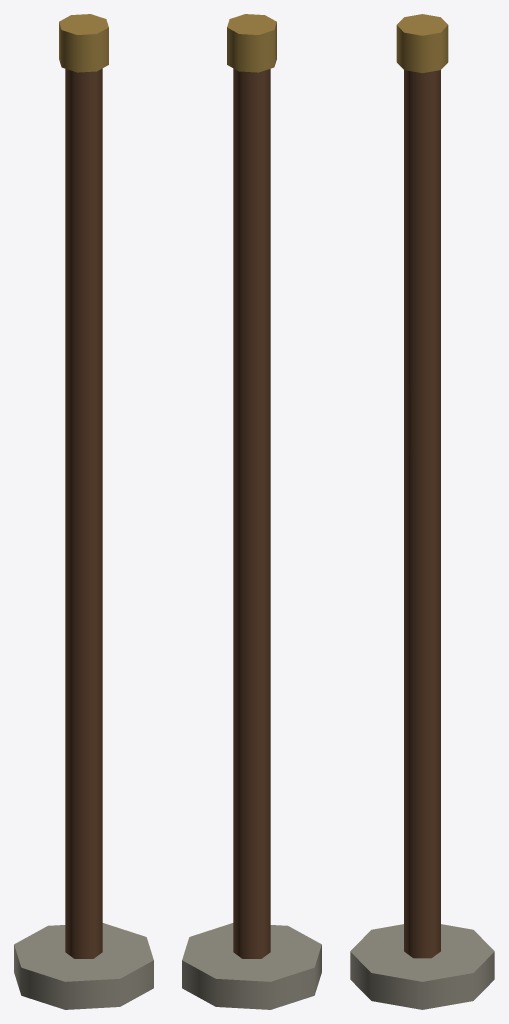
Rendered from custom-nature-flagpole.glb.
3 views of the same model, side by side, from view 1: azimuth 30°, elevation 25°; view 2: azimuth 150°, elevation 25°; view 3: azimuth 270°, elevation 25° (orthographic).
Parts seen in each view (by area): view 1: custom-nature-flagpole; view 2: custom-nature-flagpole; view 3: custom-nature-flagpole.
Boxes of the visible parts, x1=… form: custom-nature-flagpole: x1=14, y1=14, x2=153, y2=1009; custom-nature-flagpole: x1=182, y1=14, x2=321, y2=1009; custom-nature-flagpole: x1=350, y1=14, x2=494, y2=1009.
Size of the model in its own units: 1 by 7.29 by 1.
